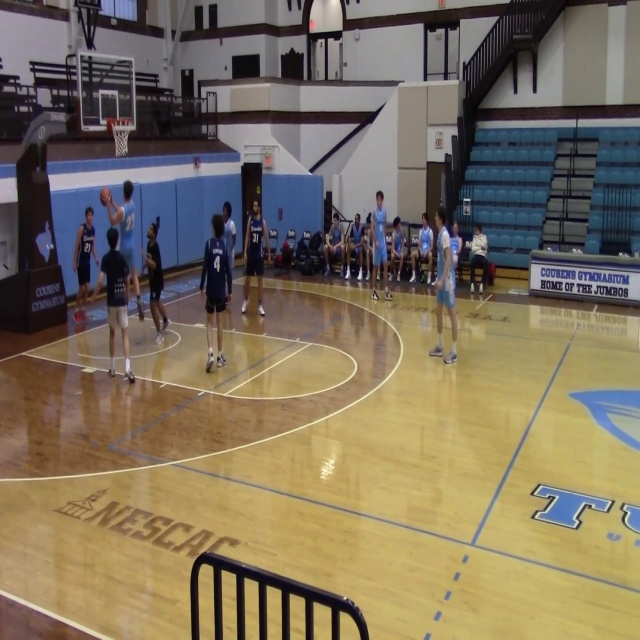Basketball: (109, 206, 125, 224), (100, 188, 111, 207), (123, 180, 133, 197)
